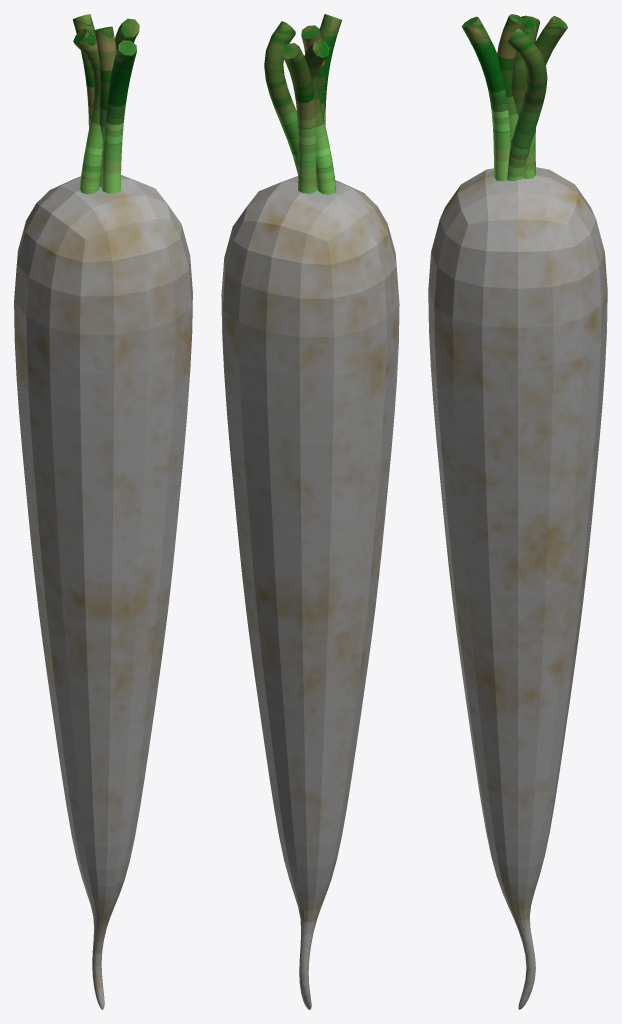
File: Labanos.glb
The picture shows the model from 3 angles, left to right: view 1: azimuth 30°, elevation 25°; view 2: azimuth 150°, elevation 25°; view 3: azimuth 270°, elevation 25°; orthographic projection.
Visible parts, largest first — view 1: Labanos; view 2: Labanos; view 3: Labanos.
Boxes of the visible parts, x1,y1,x2,y2 form: Labanos: (14, 14, 192, 1009); Labanos: (221, 14, 399, 1009); Labanos: (428, 14, 607, 1009).
Bounding box in the file's own units: 1.81 × 11.05 × 1.81.
Materials: 1 (1 with a texture image).
